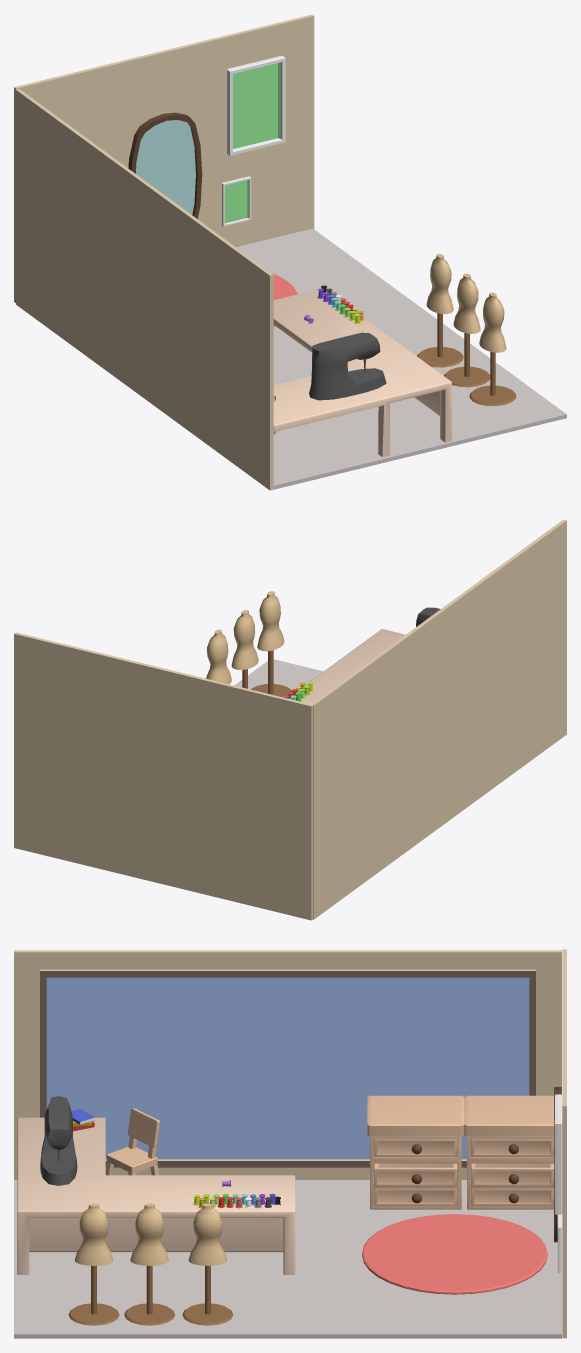
File: ателье внутри.fbx
3 views of the same model, one above another, from view 1: azimuth 30°, elevation 25°; view 2: azimuth 150°, elevation 25°; view 3: azimuth 270°, elevation 25° (orthographic). The views are drawn at different scales.
Visible parts, largest first — view 1: Cube.001, Cube.002, Cube, Cube.003, Cube.004, Picture 1.003, Circle.022, Circle.002, Circle.001, Circle, Picture 1.001; view 2: Cube.002, Cube.001, Cube.003, Circle.002, Cube, Circle.001, Circle; view 3: Cube.001, Cube, Cube.003, Carpet 1, Bedside table 1, Bedside table 1.001, Circle.001, Circle.002, Circle, Circle.022, Chair 1, Cube.002 (+1 smaller).
Boxes of the visible parts, box(x1,y1,x2,y2) form: Cube.001: box(16, 89, 273, 490); Cube.002: box(14, 14, 314, 302); Cube: box(236, 228, 566, 489); Cube.003: box(273, 288, 451, 457); Cube.004: box(128, 112, 202, 218); Picture 1.003: box(227, 55, 285, 155); Circle.022: box(309, 332, 386, 400); Circle.002: box(469, 292, 516, 406); Circle.001: box(444, 273, 490, 387); Circle: box(417, 254, 463, 367); Picture 1.001: box(222, 176, 251, 226); Cube.002: box(14, 632, 313, 920); Cube.001: box(311, 519, 566, 919); Cube.003: box(301, 629, 405, 703); Circle.002: box(251, 591, 292, 697); Cube: box(234, 659, 323, 689); Circle.001: box(231, 610, 258, 688); Circle: box(206, 629, 231, 684); Cube.001: box(14, 950, 561, 1179); Cube: box(14, 1180, 561, 1338); Cube.003: box(17, 1117, 295, 1274); Carpet 1: box(362, 1214, 547, 1294); Bedside table 1: box(367, 1095, 464, 1209); Bedside table 1.001: box(464, 1095, 554, 1209); Circle.001: box(124, 1203, 174, 1325); Circle.002: box(68, 1203, 119, 1325); Circle: box(182, 1203, 233, 1325); Circle.022: box(40, 1096, 77, 1185); Chair 1: box(105, 1108, 160, 1175); Cube.002: box(562, 949, 566, 1338).
Size of the model in its own units: 1222 by 844 by 1816.
